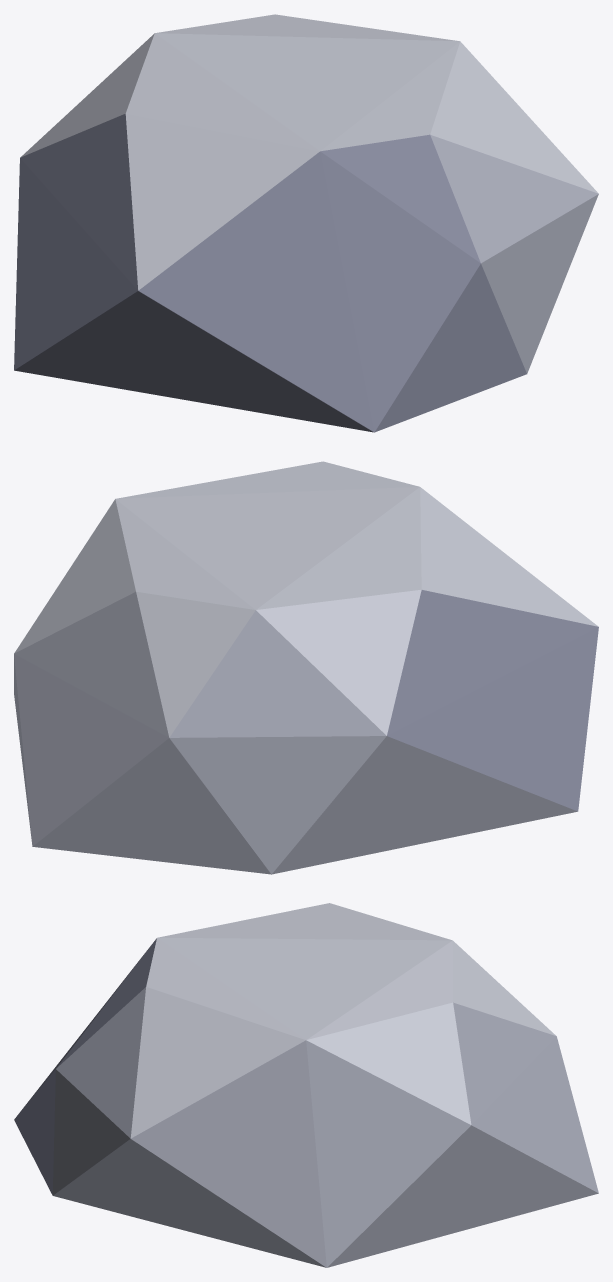
The model's file is stone_smallC.glb.
The picture shows the model from 3 angles, top to bottom: view 1: azimuth 30°, elevation 25°; view 2: azimuth 150°, elevation 25°; view 3: azimuth 270°, elevation 25°; orthographic projection. The views are drawn at different scales.
Parts seen in each view (by area): view 1: stone_smallC; view 2: stone_smallC; view 3: stone_smallC.
Boxes of the visible parts, x1,y1,x2,y2 form: stone_smallC: [14, 14, 598, 432]; stone_smallC: [14, 461, 598, 874]; stone_smallC: [14, 903, 598, 1267].
Bounding box in the file's own units: 0.314 × 0.1188 × 0.3257.
Materials: 1 (1 with a texture image).
